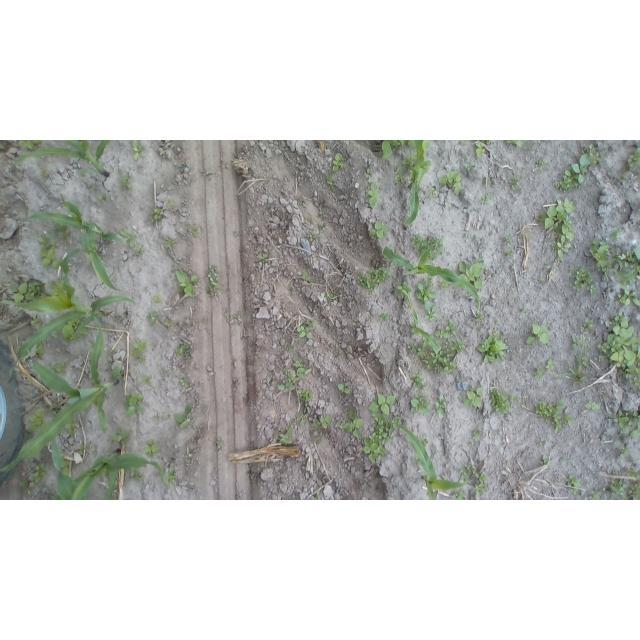Maize: (2, 314, 122, 472), (22, 193, 127, 292), (50, 440, 167, 499), (383, 240, 481, 307), (394, 422, 473, 499), (1, 248, 65, 312), (11, 141, 110, 180), (405, 140, 431, 225), (407, 295, 442, 354), (107, 470, 117, 498)
Weeds: (597, 310, 639, 386), (537, 198, 576, 263), (555, 143, 601, 192), (409, 341, 455, 372), (535, 399, 573, 433), (557, 350, 591, 381), (614, 247, 640, 287), (478, 329, 507, 364), (455, 256, 486, 288), (358, 265, 392, 292), (589, 237, 612, 271), (8, 282, 44, 303), (337, 409, 364, 437), (613, 411, 640, 438), (176, 270, 200, 298), (488, 390, 518, 412), (437, 169, 462, 195), (371, 415, 393, 444), (283, 356, 309, 380), (363, 436, 386, 463), (25, 407, 47, 434), (369, 393, 396, 415), (39, 235, 58, 265), (126, 393, 147, 418), (416, 284, 437, 308), (526, 323, 551, 343), (380, 141, 406, 160), (465, 387, 486, 410), (273, 423, 293, 445), (573, 267, 592, 290), (208, 264, 220, 297), (119, 228, 140, 246), (177, 404, 194, 426), (618, 290, 640, 307), (458, 460, 474, 483), (297, 319, 315, 339), (369, 220, 389, 238), (33, 461, 49, 483), (475, 471, 487, 500), (142, 439, 161, 457), (366, 184, 380, 208), (411, 371, 428, 390), (609, 480, 625, 500), (411, 234, 425, 256), (109, 429, 128, 445), (130, 141, 146, 160), (436, 394, 447, 421), (412, 399, 431, 414), (332, 152, 345, 172), (627, 148, 640, 168), (444, 318, 460, 334), (313, 415, 332, 428), (16, 140, 43, 149), (132, 341, 148, 356), (397, 281, 411, 298), (164, 467, 177, 485), (393, 165, 406, 183), (151, 206, 165, 222), (298, 269, 314, 283), (507, 172, 521, 188), (51, 361, 69, 373), (296, 410, 308, 428), (121, 174, 133, 191), (162, 235, 175, 250), (610, 226, 622, 242), (277, 381, 296, 391), (427, 237, 444, 248), (426, 306, 439, 320), (452, 339, 467, 351), (55, 226, 71, 237), (296, 390, 312, 401), (629, 484, 640, 500), (566, 476, 582, 487), (63, 457, 72, 476), (147, 311, 160, 324), (339, 382, 352, 395), (401, 155, 416, 166), (584, 401, 600, 411), (131, 244, 144, 256), (534, 366, 546, 379), (481, 192, 493, 205), (536, 158, 551, 168), (175, 343, 189, 353), (63, 325, 73, 339), (435, 330, 450, 339), (67, 424, 77, 437), (589, 488, 602, 498), (476, 142, 485, 156), (130, 470, 142, 480), (571, 334, 579, 349), (504, 140, 524, 146), (475, 310, 484, 323), (428, 187, 438, 198), (36, 345, 45, 357), (452, 493, 467, 500), (20, 481, 33, 489), (536, 440, 549, 448), (620, 447, 631, 456), (325, 172, 333, 184), (546, 358, 554, 370), (29, 316, 39, 325), (394, 416, 402, 427), (627, 468, 638, 476), (164, 200, 176, 207), (163, 318, 172, 327), (41, 168, 50, 177), (528, 142, 537, 151), (379, 312, 389, 320), (142, 374, 151, 382), (100, 193, 108, 202), (261, 254, 269, 263), (571, 487, 580, 495), (583, 321, 593, 328), (364, 168, 370, 179), (465, 163, 476, 169), (474, 427, 482, 435), (440, 280, 448, 288), (308, 234, 317, 241), (503, 235, 512, 242), (591, 285, 598, 294), (181, 378, 188, 386), (194, 227, 201, 235), (421, 438, 429, 445), (568, 266, 576, 273), (507, 251, 514, 258), (155, 296, 164, 301), (562, 456, 570, 461), (544, 455, 549, 463), (482, 141, 495, 144), (613, 468, 619, 474), (167, 414, 172, 420), (486, 180, 490, 185), (472, 436, 476, 440)
